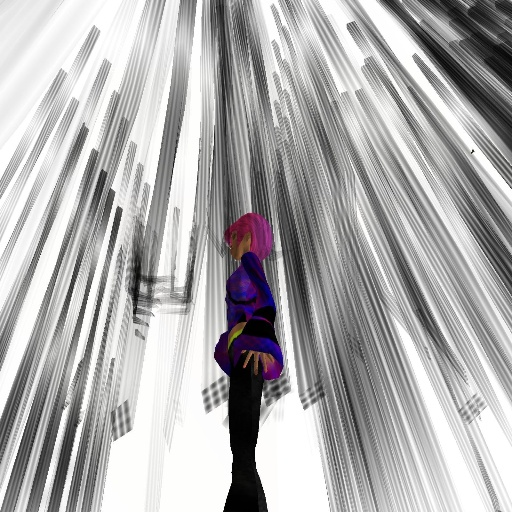hand: (239, 348, 275, 377)
